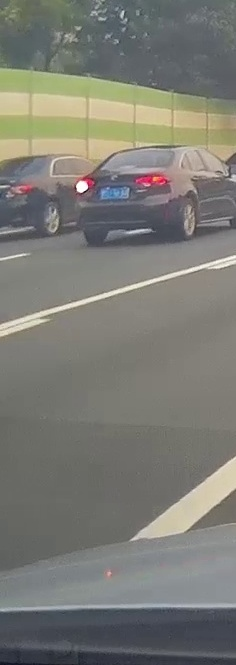L_light: (75, 178, 95, 193)
R_light: (136, 176, 167, 187)
T_light: (121, 165, 137, 168)
day-left: (73, 143, 179, 245)
